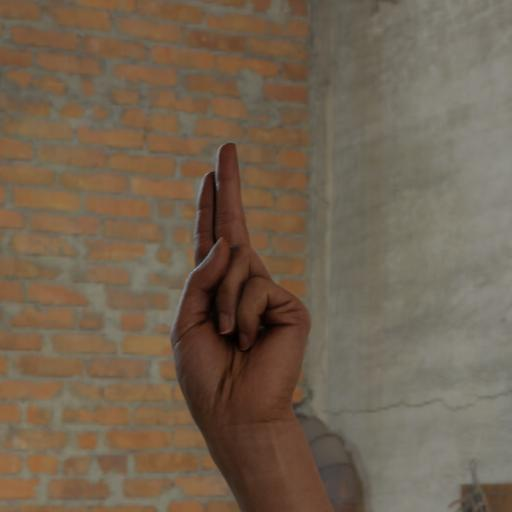U: (178, 130, 329, 452)
